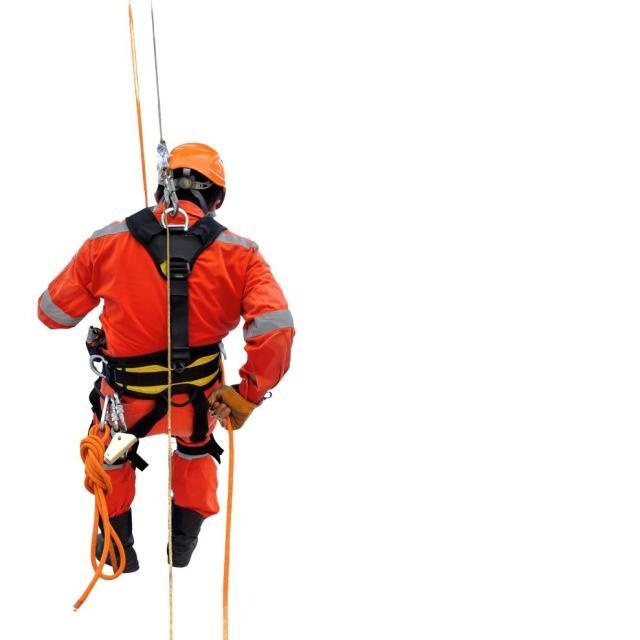Arnes_seguridad: (102, 206, 230, 402)
